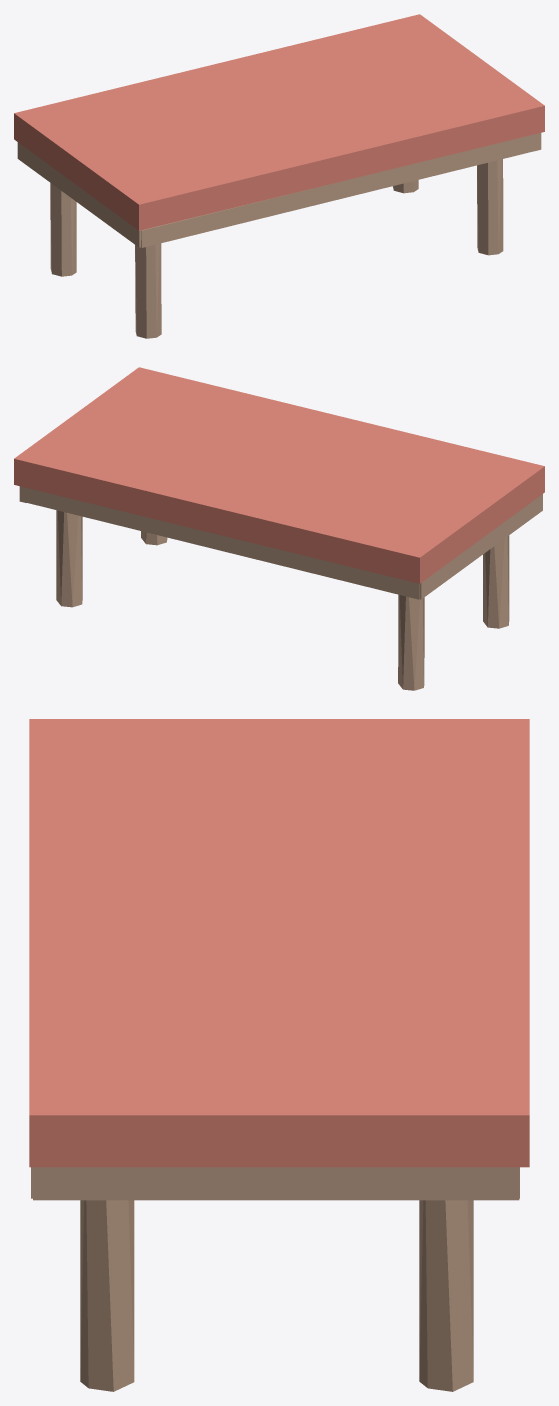
Rendered from cheap table.fbx.
3 renders of one model, top to bottom at view 1: azimuth 30°, elevation 25°; view 2: azimuth 150°, elevation 25°; view 3: azimuth 270°, elevation 25°, orthographic. The views are drawn at different scales.
Parts seen in each view (by area): view 1: Cube.003, Cube, Cube.004, Cylinder, Cylinder.003, Cylinder.001, Cube.006; view 2: Cube, Cube.003, Cube.001, Cylinder.002, Cylinder.001, Cylinder, Cube.006; view 3: Cube, Cube.003, Cube.005, Cylinder.002, Cylinder.003.
Part boxes in pixels (left/top/right/bottom): Cube.003: left=14, top=71, right=343, bottom=230; Cube: left=188, top=14, right=544, bottom=180; Cube.004: left=141, top=133, right=540, bottom=247; Cylinder: left=135, top=243, right=161, bottom=338; Cylinder.003: left=477, top=159, right=503, bottom=255; Cylinder.001: left=50, top=183, right=76, bottom=276; Cube.006: left=17, top=142, right=143, bottom=247; Cube: left=14, top=367, right=362, bottom=539; Cube.003: left=218, top=422, right=544, bottom=583; Cube.001: left=20, top=486, right=419, bottom=599; Cylinder.002: left=56, top=510, right=82, bottom=607; Cylinder.001: left=398, top=594, right=424, bottom=690; Cylinder: left=483, top=535, right=509, bottom=628; Cube.006: left=419, top=494, right=542, bottom=599; Cube: left=29, top=887, right=529, bottom=1167; Cube.003: left=29, top=719, right=529, bottom=939; Cube.005: left=33, top=1167, right=519, bottom=1200; Cylinder.002: left=419, top=1200, right=473, bottom=1391; Cylinder.003: left=80, top=1200, right=134, bottom=1391.
Size of the model in its own units: 893 by 314 by 476.
